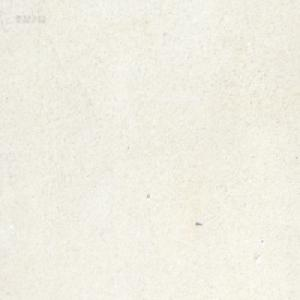Nail: (195, 220, 202, 226)
